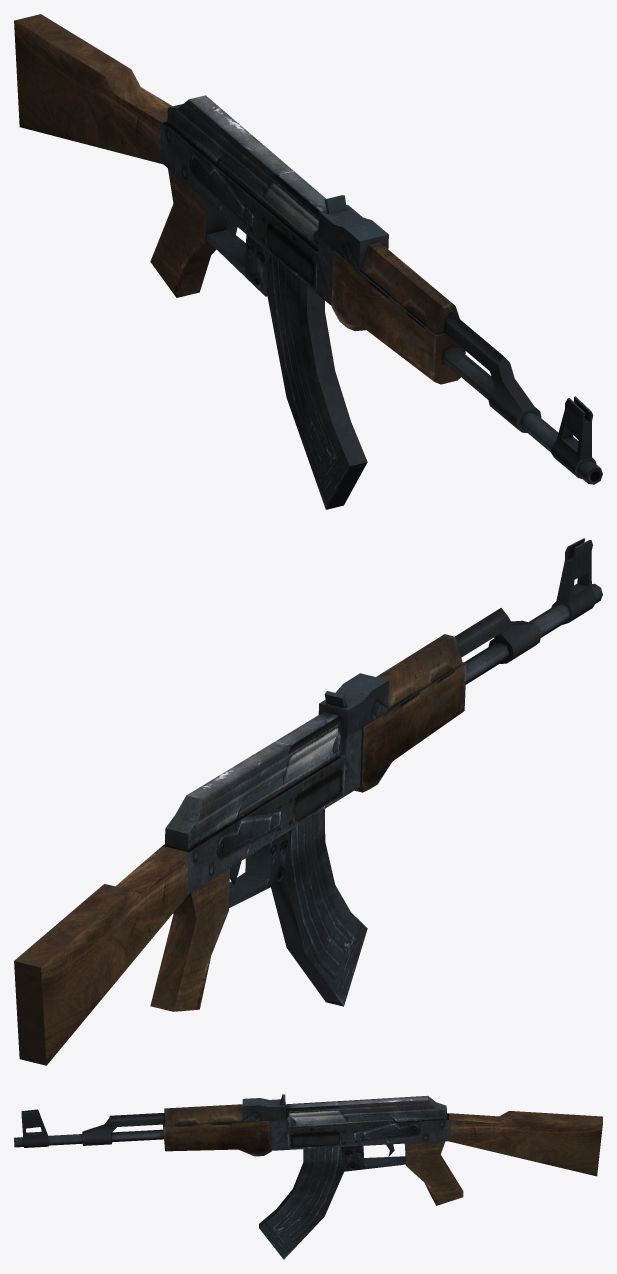
File: rif_ak47.FBX
3 renders of one model, top to bottom at view 1: azimuth 30°, elevation 25°; view 2: azimuth 150°, elevation 25°; view 3: azimuth 270°, elevation 25°, orthographic. The views are drawn at different scales.
Parts seen in each view (by area): view 1: SMDImporter.Mesh.w_rif_ak47; view 2: SMDImporter.Mesh.w_rif_ak47; view 3: SMDImporter.Mesh.w_rif_ak47.
Part boxes in pixels (left/top/right/bottom): SMDImporter.Mesh.w_rif_ak47: left=14, top=14, right=602, bottom=509; SMDImporter.Mesh.w_rif_ak47: left=14, top=538, right=602, bottom=1065; SMDImporter.Mesh.w_rif_ak47: left=14, top=1094, right=602, bottom=1259.
Bounding box in the file's own units: 3.21 × 31.33 × 104.
